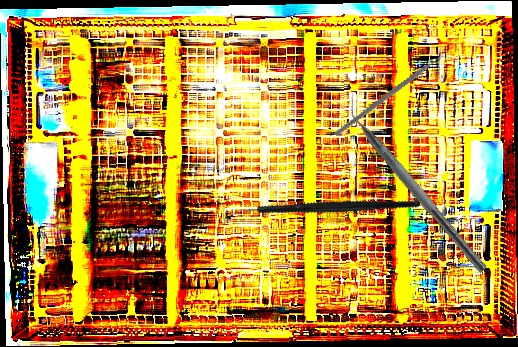Chopper: (335, 90, 499, 274), (223, 145, 421, 278), (333, 27, 455, 166)
